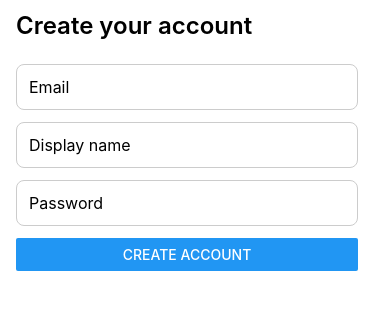
Test case: shows a generic message when something unexpected breaks
Type "adam@test.com" into the field with placeholder "Email" at coordinates (187, 87), box [16,64,358,110]
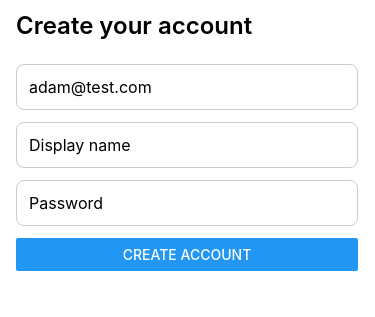
Type "adam" into the field with placeholder "Display name" at coordinates (187, 145), box [16,122,358,168]
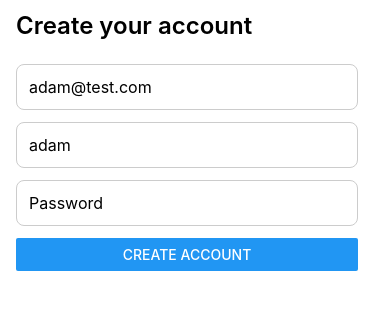
Type "password123" into the password field with placeholder "Password" at coordinates (187, 203), box [16,180,358,226]
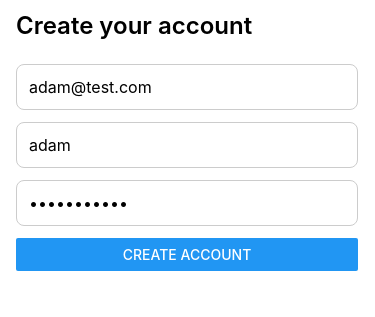
Click the button "Create account" at coordinates (187, 254), box [16,238,358,271]
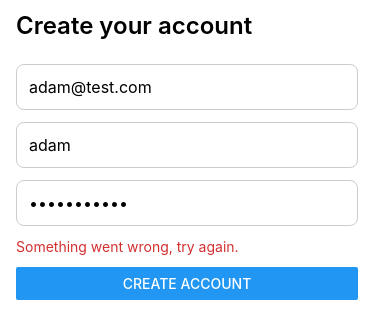
Check: the text "Something went wrong, try again." is shown, box [16,238,239,255]
